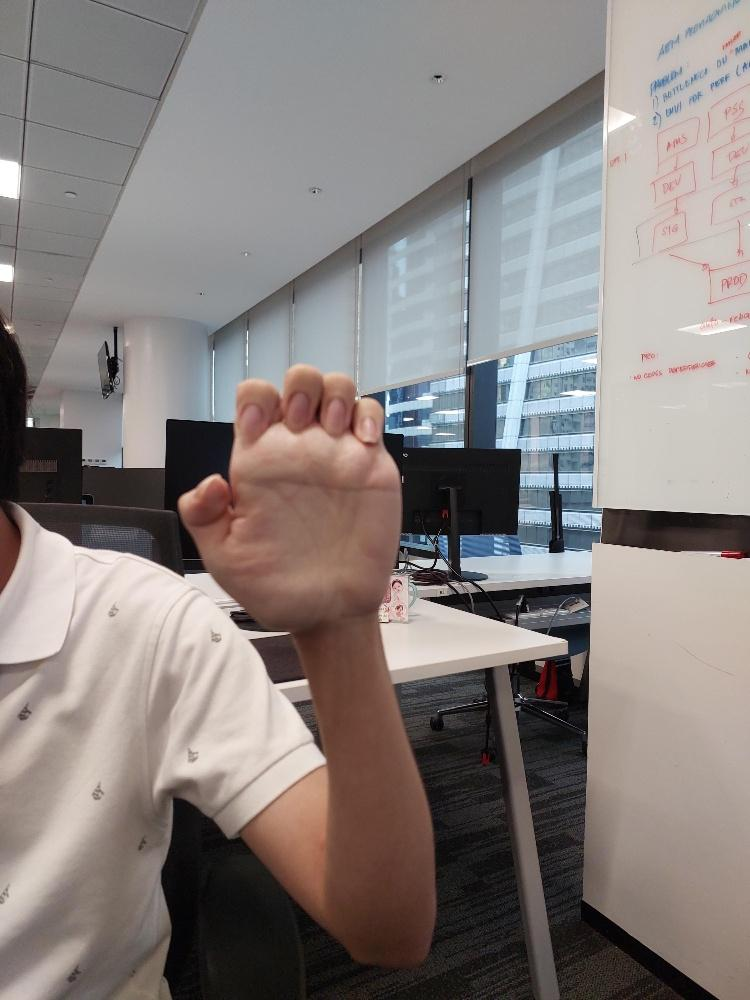e: (176, 359, 404, 639)
